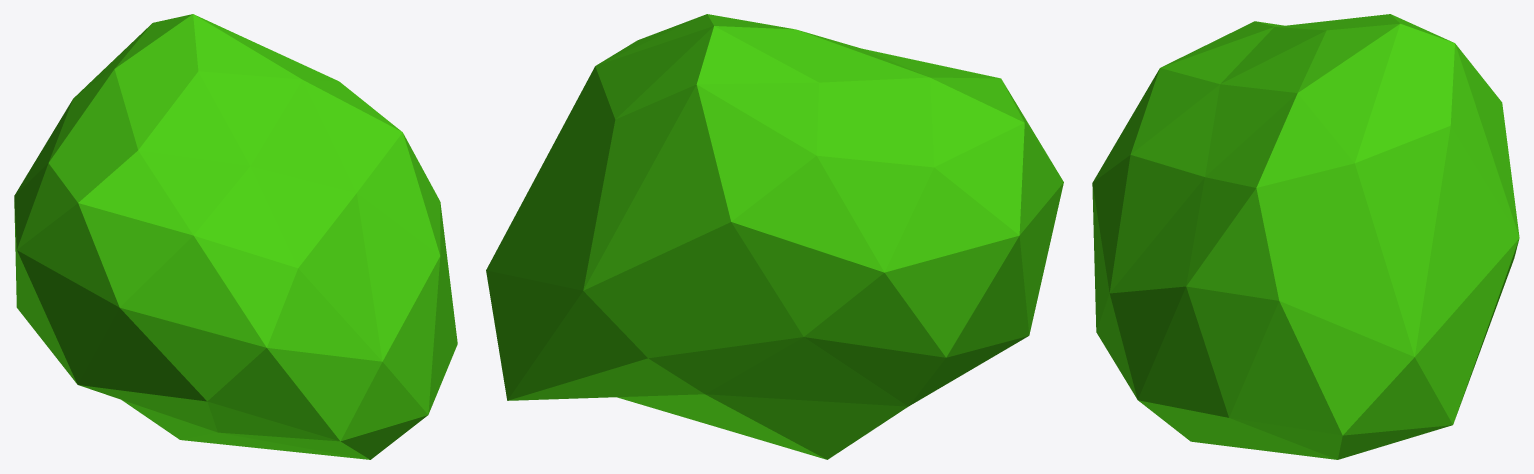
File: lp_tree5_Cube_017.obj
3 views of the same model, side by side, from view 1: azimuth 30°, elevation 25°; view 2: azimuth 150°, elevation 25°; view 3: azimuth 270°, elevation 25° (orthographic). The views are drawn at different scales.
Parts seen in each view (by area): view 1: lp_tree5_Cube_017; view 2: lp_tree5_Cube_017; view 3: lp_tree5_Cube_017.
Boxes of the visible parts, x1=… form: lp_tree5_Cube_017: x1=14, y1=14, x2=457, y2=459; lp_tree5_Cube_017: x1=486, y1=14, x2=1063, y2=459; lp_tree5_Cube_017: x1=1092, y1=14, x2=1519, y2=459.
Size of the model in its own units: 4.98 by 4.27 by 4.31.
